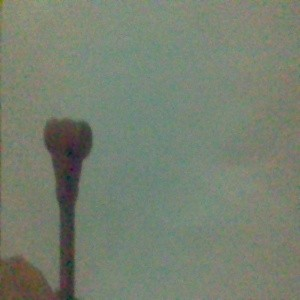palu: (43, 116, 94, 300)
